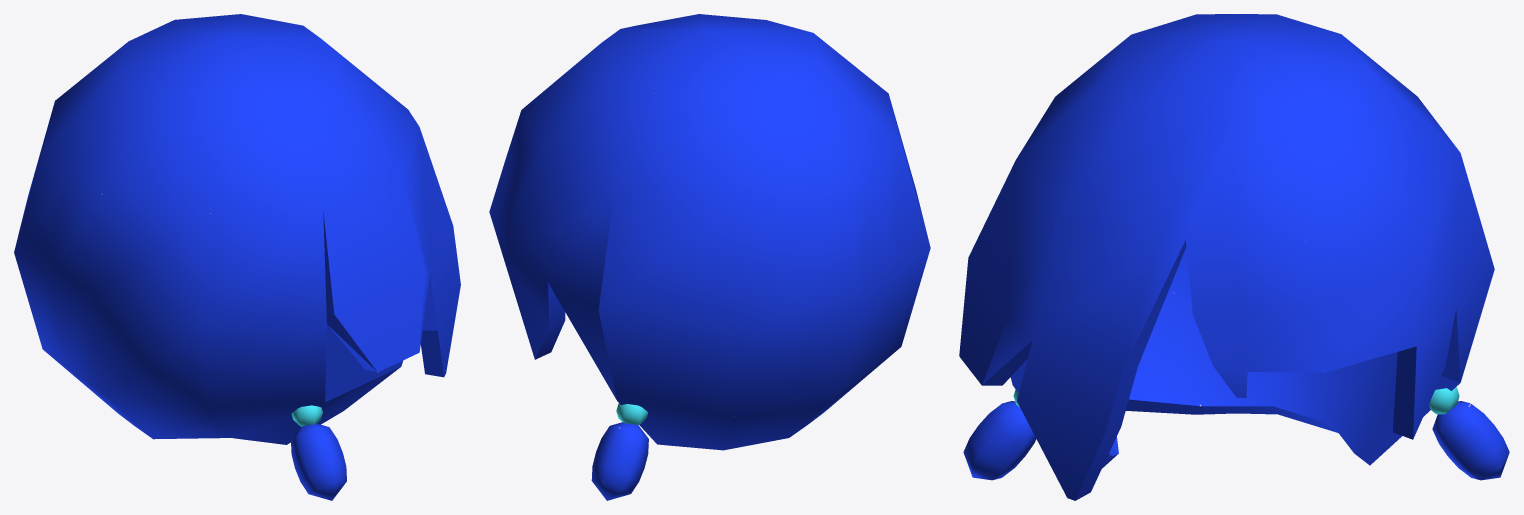
Rendered from FHair_D1.fbx.
The picture shows the model from 3 angles, left to right: view 1: azimuth 30°, elevation 25°; view 2: azimuth 150°, elevation 25°; view 3: azimuth 270°, elevation 25°; orthographic projection. The views are drawn at different scales.
Visible parts, largest first — view 1: water hair; view 2: water hair; view 3: water hair.
Part boxes in pixels (x1,y1,x2,y2): water hair: (14, 14, 460, 500); water hair: (489, 14, 930, 500); water hair: (959, 14, 1509, 500).
Bounding box in the file's own units: 3.65 × 3.61 × 4.08.
